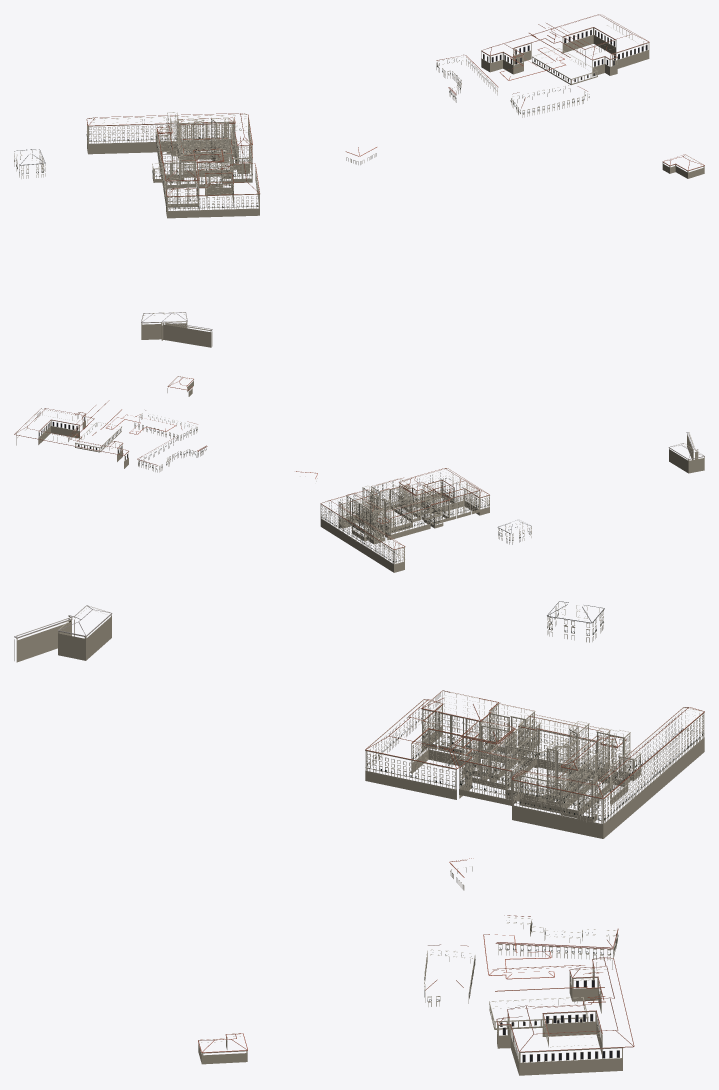
3 views of the same model, one above another, from view 1: azimuth 30°, elevation 25°; view 2: azimuth 150°, elevation 25°; view 3: azimuth 270°, elevation 25° (orthographic). The views are drawn at different scales.
Visible parts, largest first — view 1: detail; view 2: detail; view 3: detail.
Boxes of the visible parts, left/top/right/bottom form: detail: left=14, top=14, right=704, bottom=347; detail: left=14, top=376, right=704, bottom=572; detail: left=14, top=601, right=704, bottom=1075.
Size of the model in its own units: 531 by 44.75 by 338.
